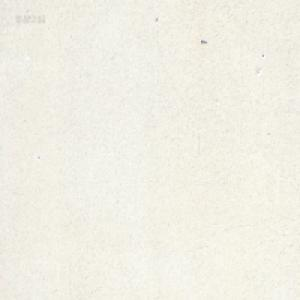Nail: (201, 39, 207, 44)
